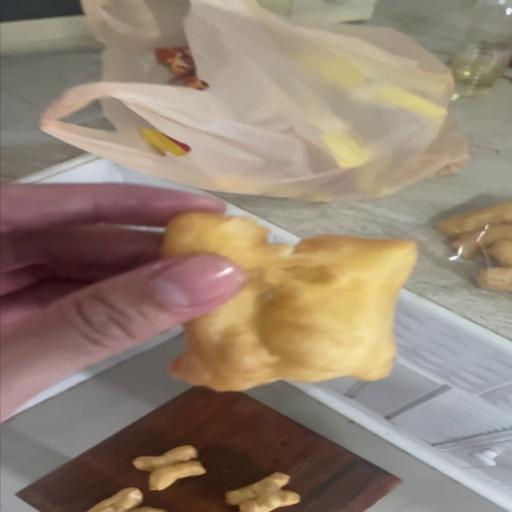street_golden_defect: (40, 0, 466, 204), (159, 212, 417, 390)
